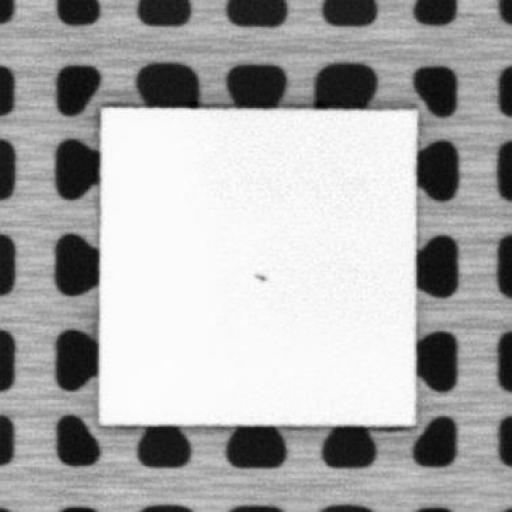DIE_INK: (249, 269, 267, 282)
